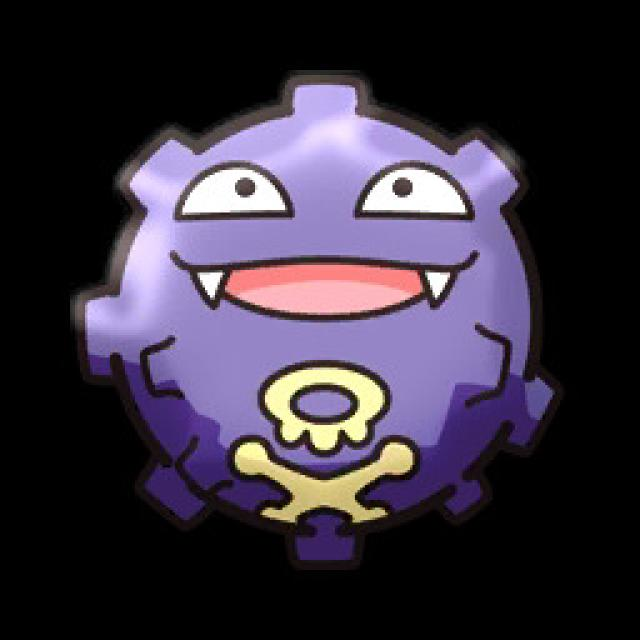Koffing: (78, 70, 560, 578)
